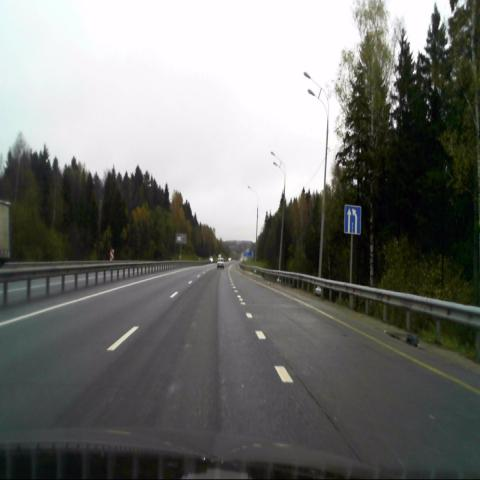5_15_5: (344, 204, 360, 234)
